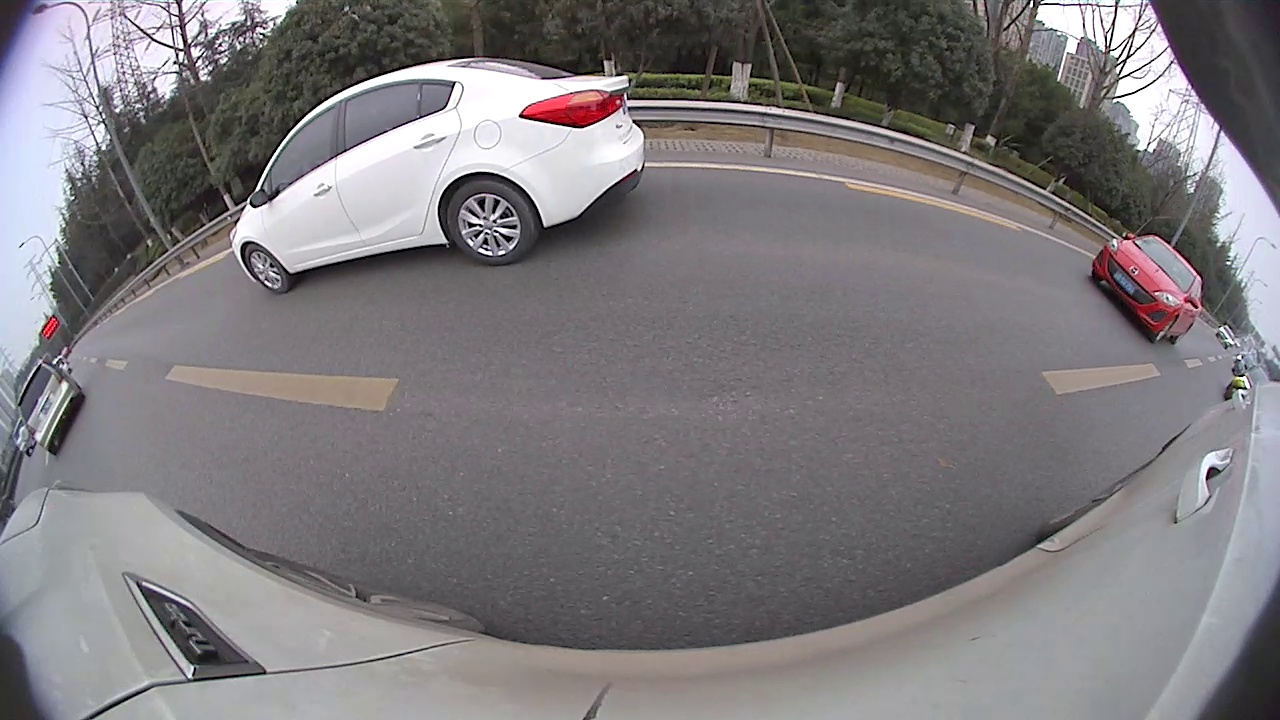car: (889, 154, 1279, 502), (595, 144, 648, 196), (526, 160, 579, 197), (508, 168, 536, 194), (640, 151, 662, 184), (584, 159, 599, 184)
front: (906, 238, 993, 346)
